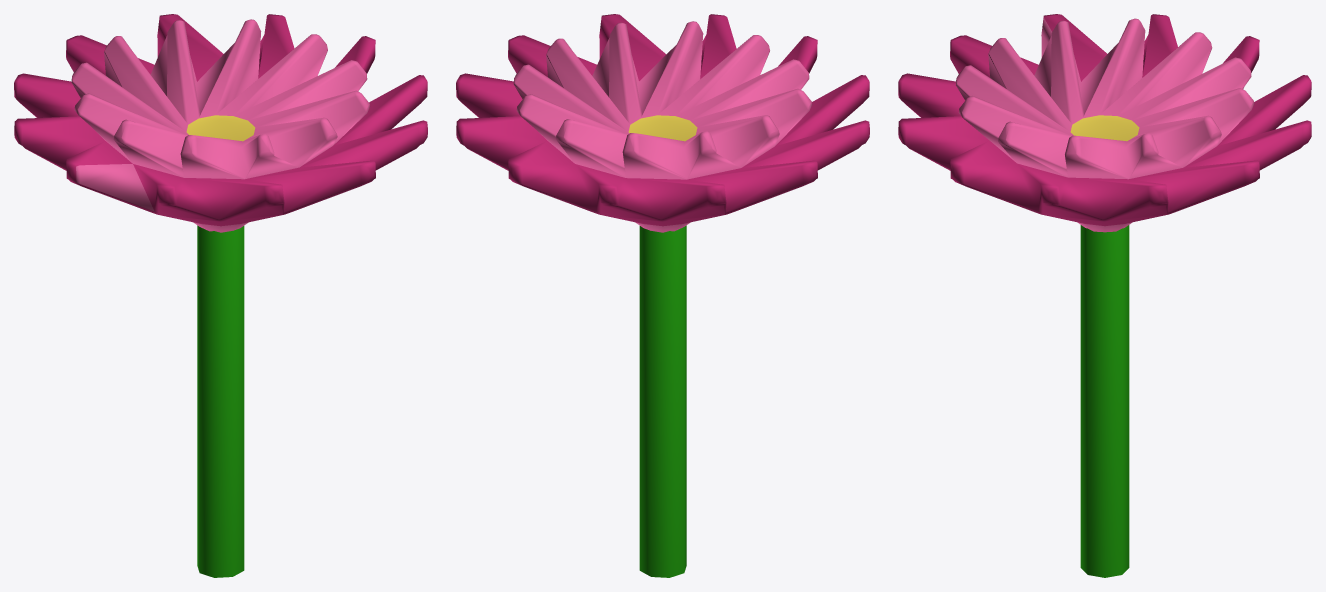
File: FlowerSmooth.fbx
3 views of the same model, side by side, from view 1: azimuth 30°, elevation 25°; view 2: azimuth 150°, elevation 25°; view 3: azimuth 270°, elevation 25° (orthographic).
Visible parts, largest first — view 1: Sphere, Cylinder.005; view 2: Sphere, Cylinder.005; view 3: Sphere, Cylinder.005.
Part boxes in pixels (<box>): Sphere: <box>14,14,427,232</box>; Cylinder.005: <box>197,225,244,577</box>; Sphere: <box>456,14,869,232</box>; Cylinder.005: <box>639,225,686,577</box>; Sphere: <box>898,14,1311,232</box>; Cylinder.005: <box>1080,225,1129,577</box>.
Bounding box in the file's own units: 28.39 × 37.24 × 28.39.
